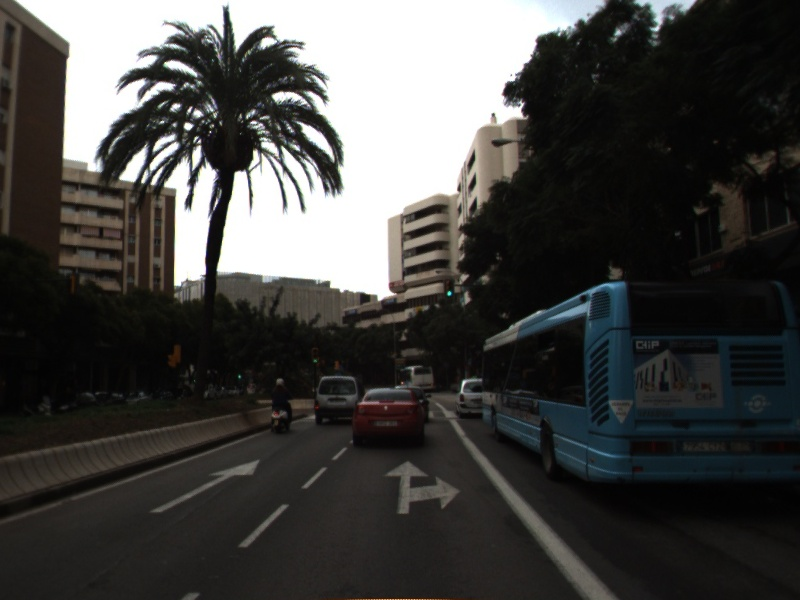STRAIGHT: (146, 457, 263, 515)
STRAIGHT_RIGHT: (380, 458, 463, 516)
